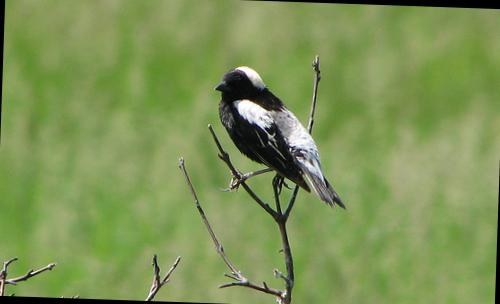bird: (204, 52, 359, 216)
